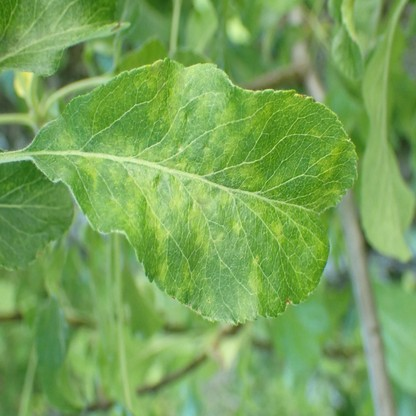scab: (74, 62, 357, 306)
